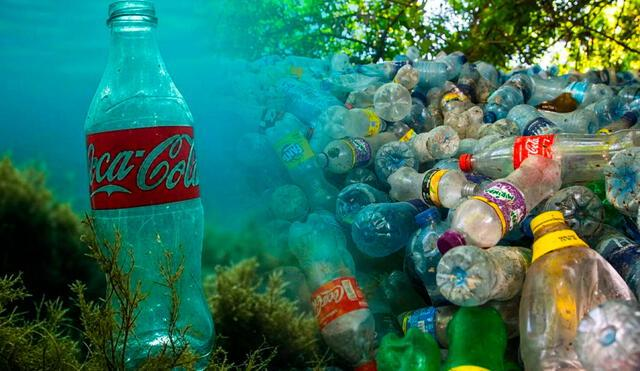paper: (424, 137, 571, 275), (281, 205, 389, 371), (436, 246, 530, 305)
